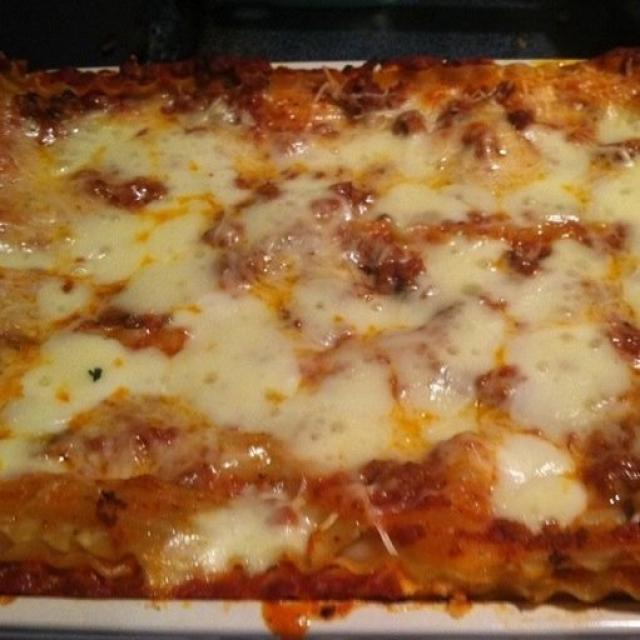Lasagna: (4, 62, 622, 600)
